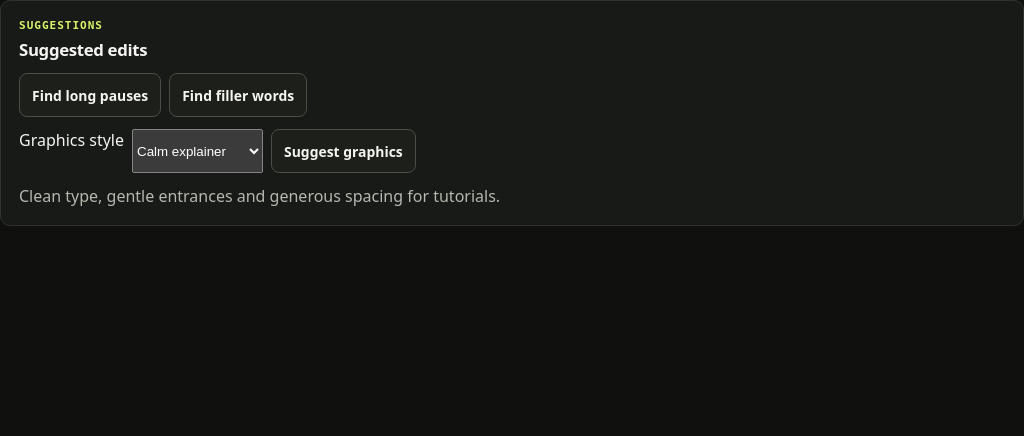
Scenario: ProposalsPanel graphics › submits a graphics proposal for review without changing the project
Select "Punchy short-form" in the dropdown labelled "Graphics style" at (198, 151), box [132,129,263,173]
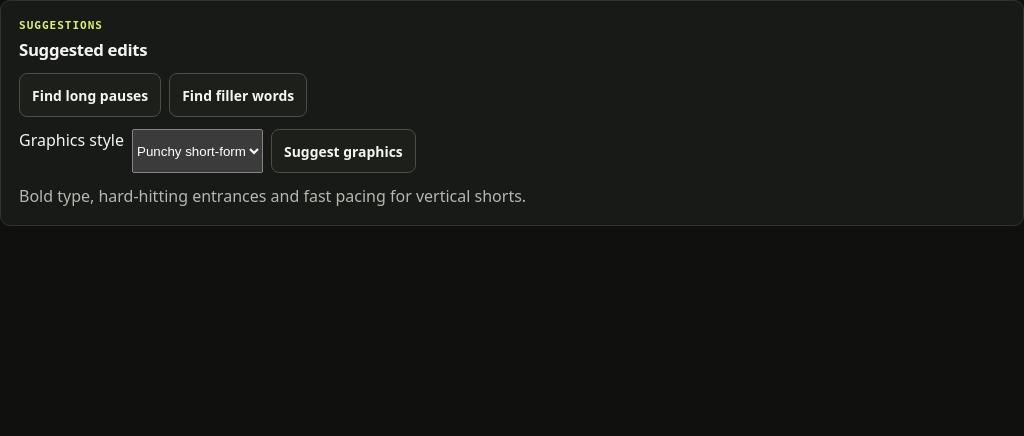
Click the button "Suggest graphics".
click(343, 151)  # box [271,129,416,173]
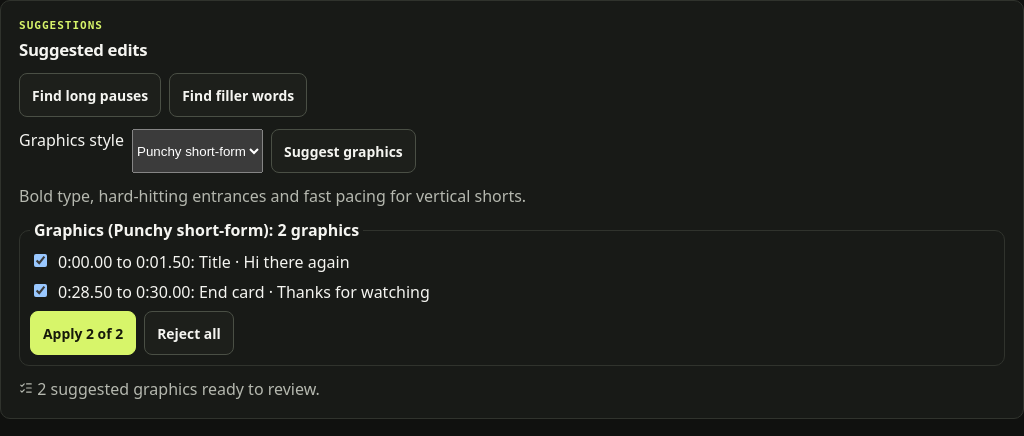
Check: the number of checkboxes is 2, box [34,254,47,267]; [34,284,47,297]
Check: the text "0:00.00 to 0:01.50: Title · Hi there again" is shown, box [58,251,350,273]
